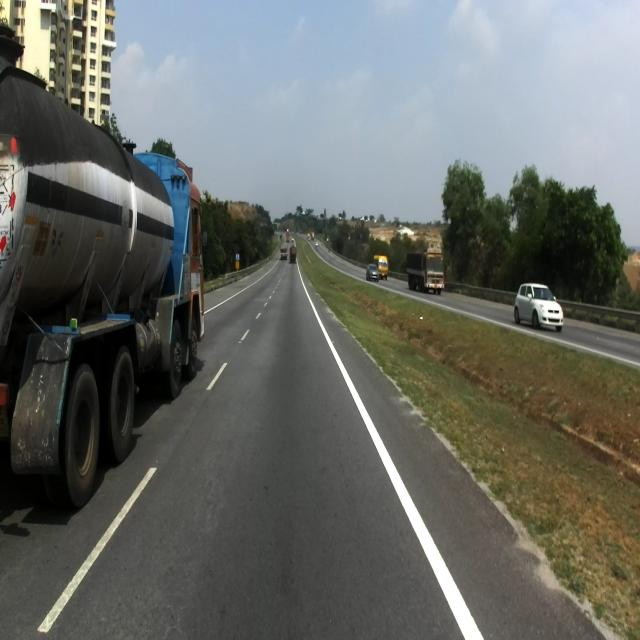Car_Maruti-Suzuki: (514, 282, 563, 331)
Car_Toyota: (365, 263, 379, 280)
mini-bus: (372, 255, 388, 279)
truck: (0, 18, 207, 508), (406, 247, 444, 294)
